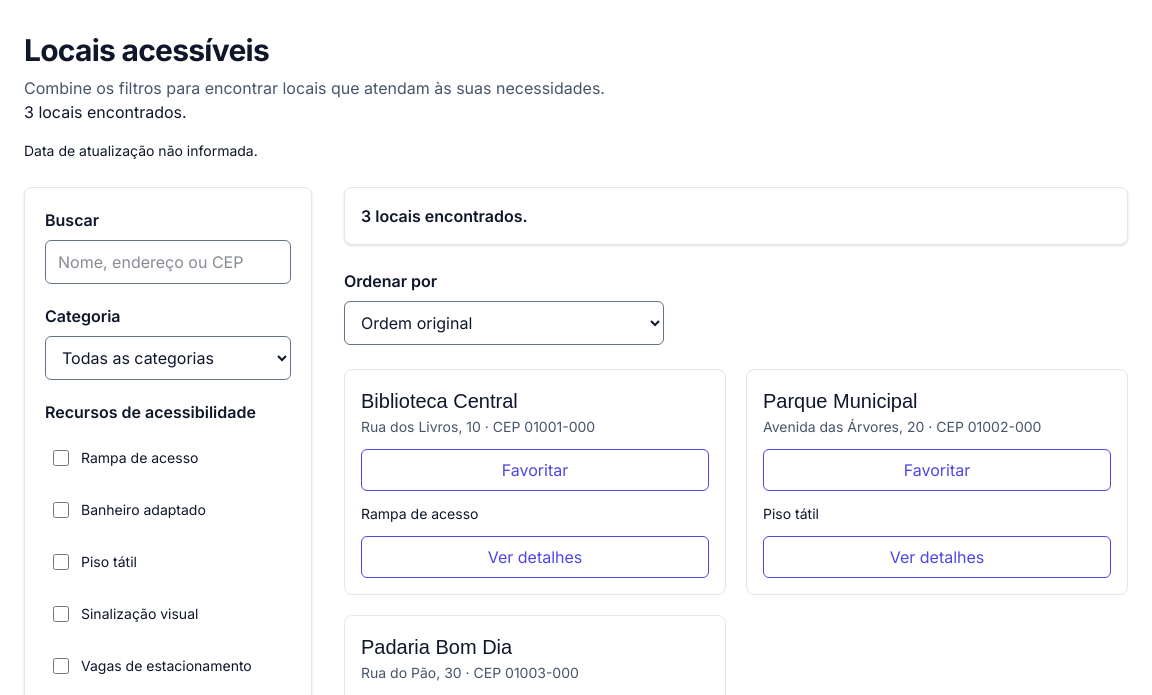
Test: Locais — histórico de buscas › filtra as sugestões pelo prefixo digitado
The width and height of the screenshot is (1152, 695).
Type "pa" into the dropdown labelled "Buscar".
click(168, 262); type("pa")  # box [45,240,291,284]
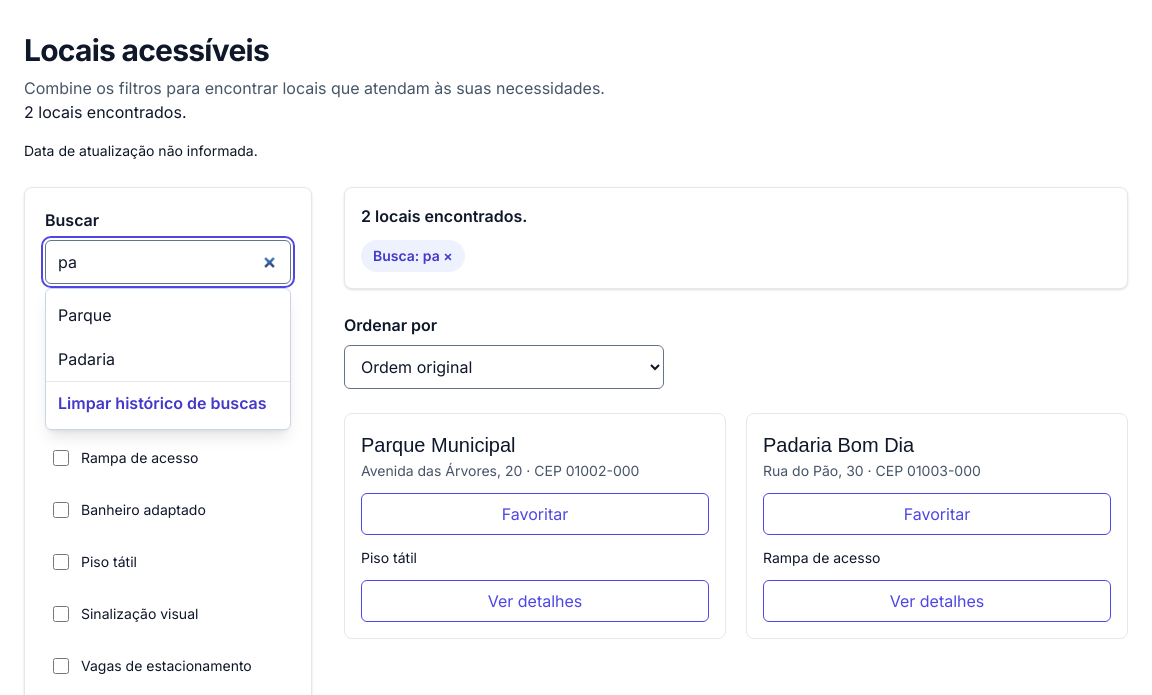
Type "d" into the dropdown labelled "Buscar".
click(168, 262); type("d")  # box [45,240,291,284]
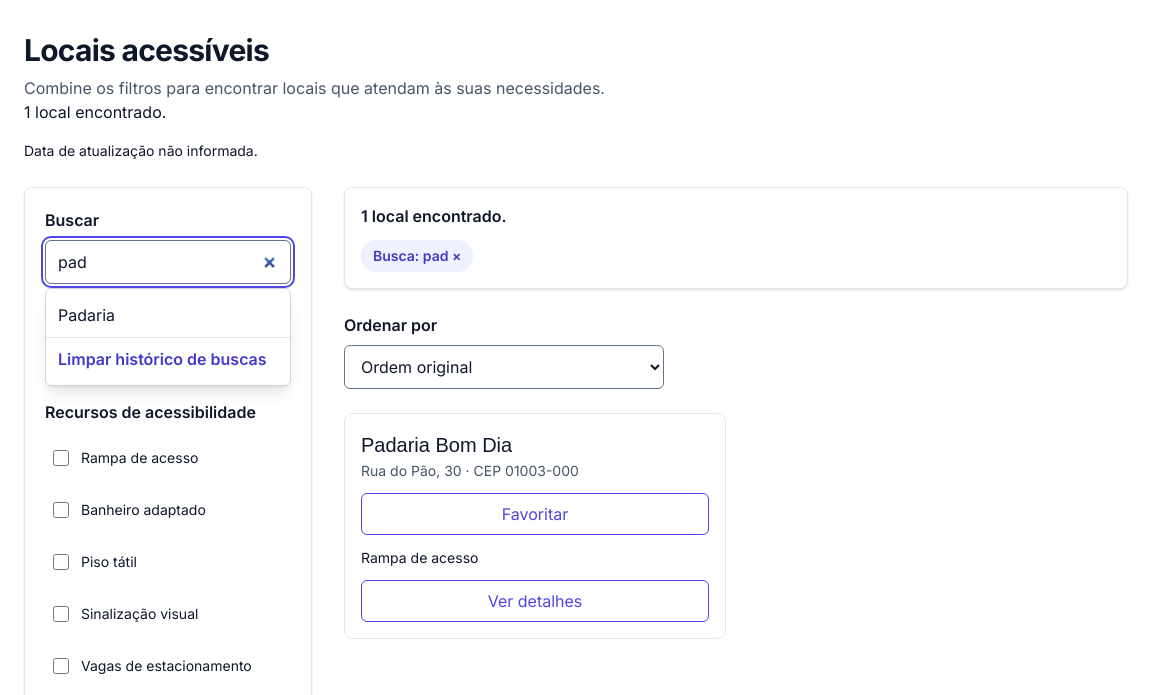
Type "x" into the dropdown labelled "Buscar".
click(168, 262); type("x")  # box [45,240,291,284]
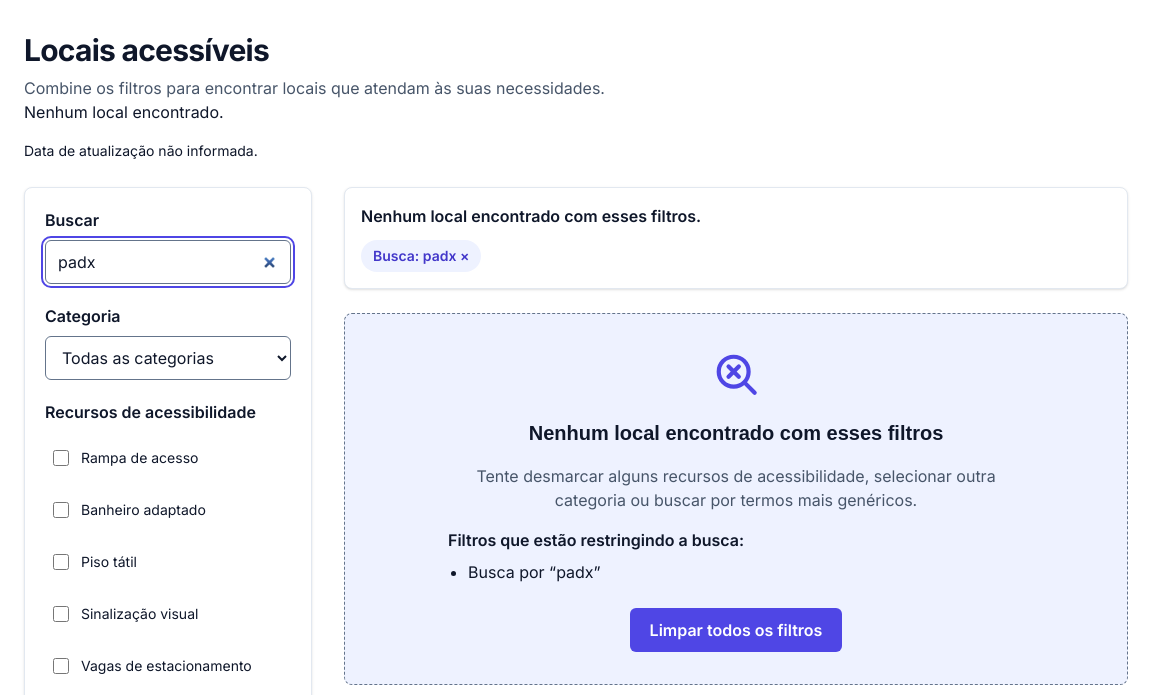
Expected: the dropdown labelled "Buscar" is collapsed, [45,240,291,284]
